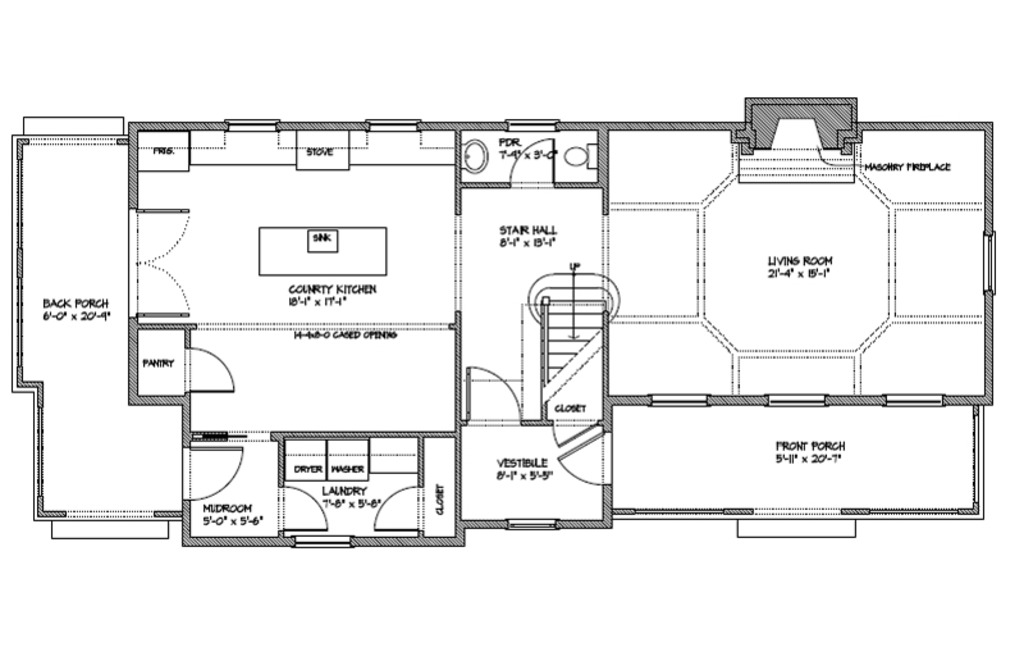door: (131, 205, 192, 320), (551, 432, 614, 494), (183, 441, 243, 500), (506, 135, 555, 191), (183, 347, 239, 395), (276, 485, 331, 533), (371, 485, 420, 534)
kitchen_bar: (254, 221, 391, 279)
large_sink: (563, 140, 602, 173)
small_sink: (455, 136, 490, 176)
stairs: (526, 259, 608, 426)
windows: (977, 222, 1000, 298), (647, 389, 713, 410), (876, 392, 948, 411), (224, 113, 279, 136), (370, 113, 419, 135), (764, 393, 828, 409), (499, 118, 557, 135), (295, 536, 356, 551), (505, 517, 558, 533)
